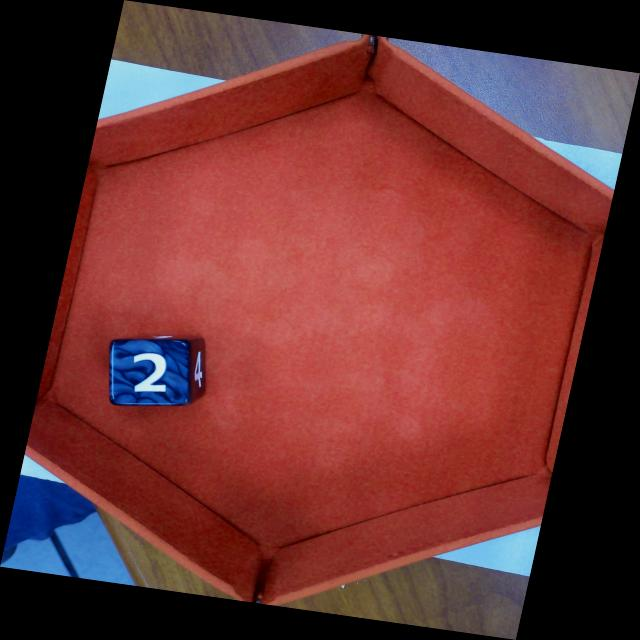dice: (111, 342, 189, 405)
